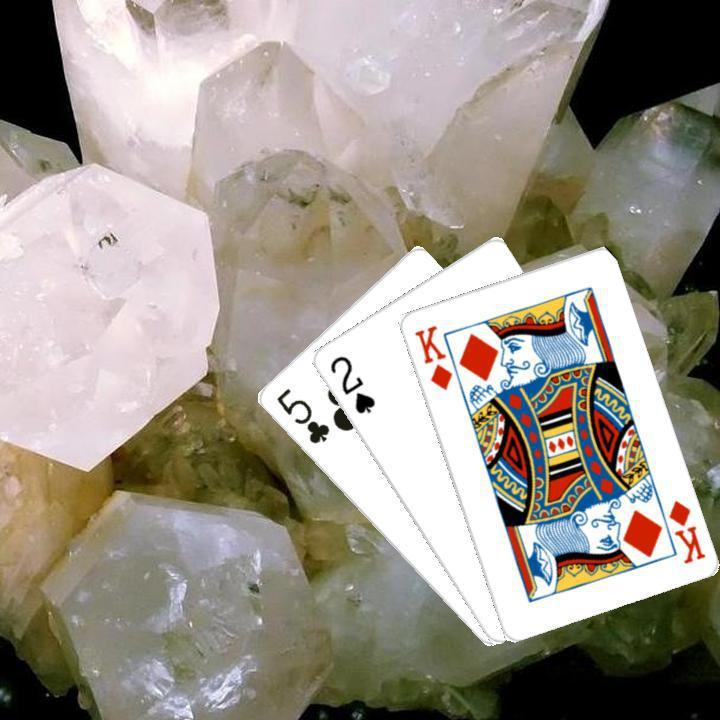2: (324, 351, 377, 416)
5: (271, 384, 332, 446)
K: (409, 320, 454, 393), (663, 495, 707, 565)
